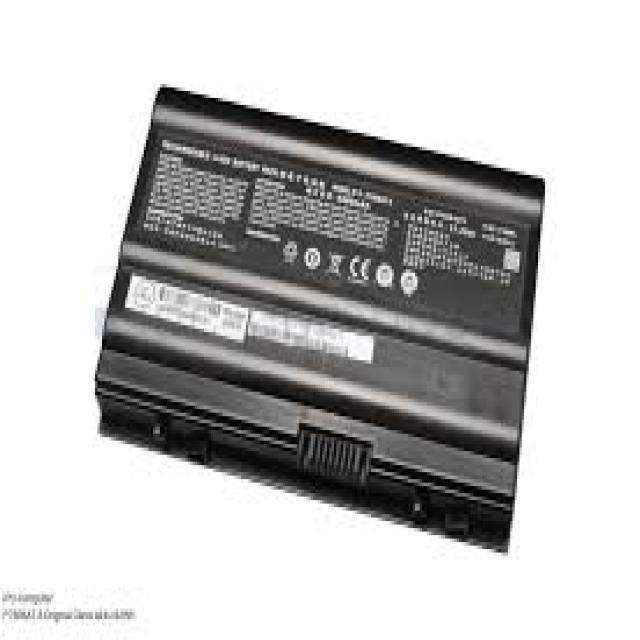Battery: (82, 20, 617, 562)
